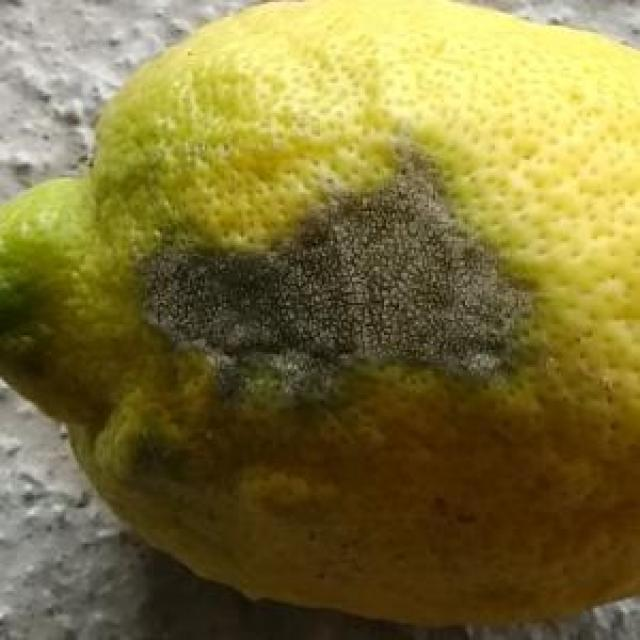lemon: (0, 1, 640, 624)
